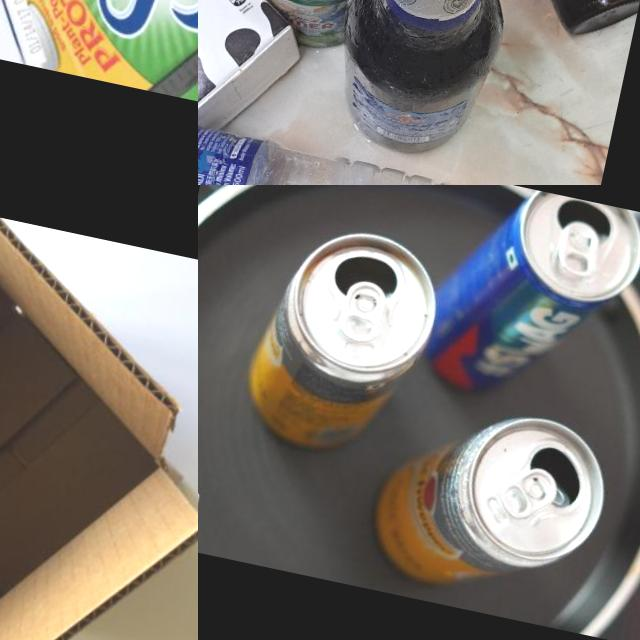aba de lata: (496, 462, 560, 524), (338, 274, 389, 342), (555, 216, 603, 278)
caixinha: (198, 0, 336, 136)
garrafa de vidro: (325, 0, 529, 167)
garrafa plástica: (198, 106, 531, 185)
lata: (362, 384, 620, 614), (235, 211, 448, 466), (415, 185, 640, 422), (232, 0, 387, 54)
papelão: (0, 185, 198, 640), (0, 0, 198, 159)
